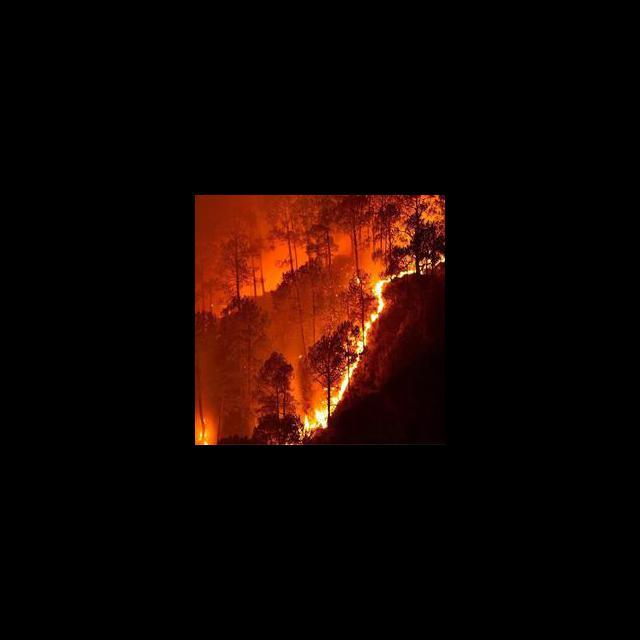Fire: (300, 281, 384, 439), (383, 251, 444, 283), (195, 419, 217, 444)
